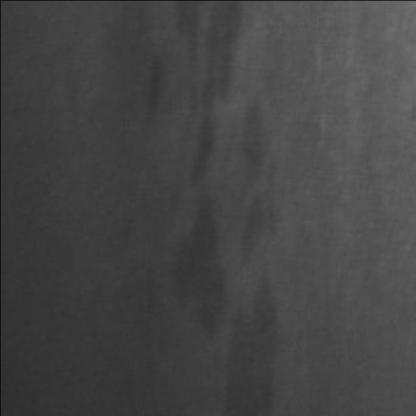inclusion: (171, 4, 244, 341), (224, 87, 294, 416)
